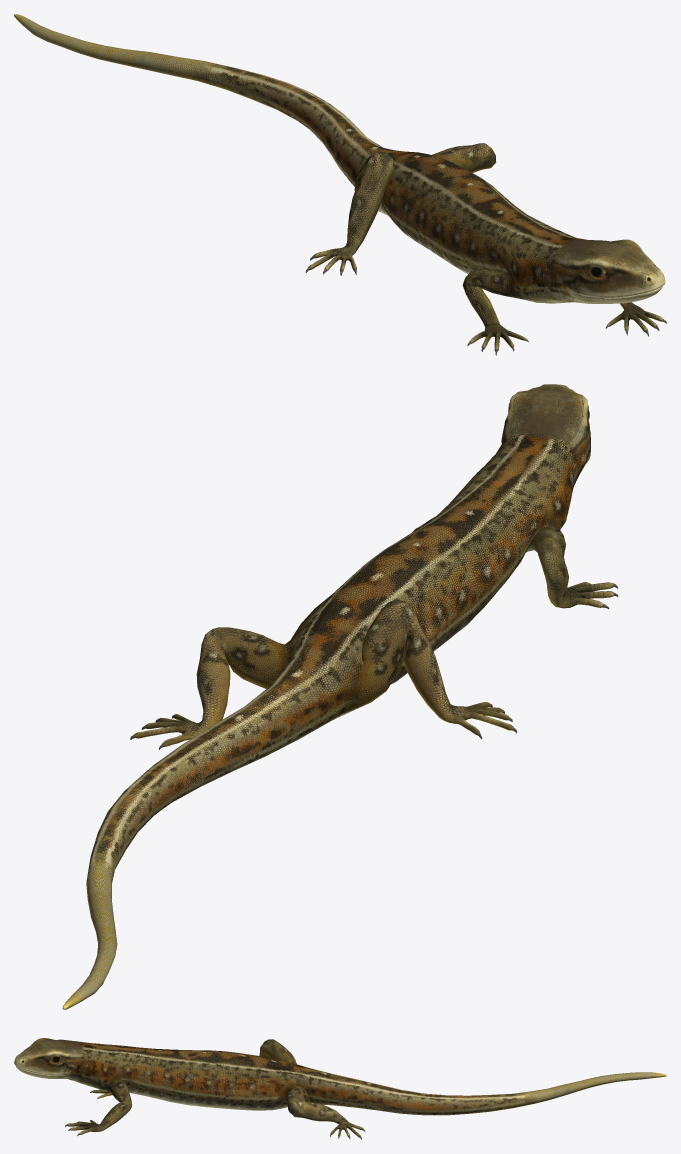
File: Standing174.obj
3 views of the same model, one above another, from view 1: azimuth 30°, elevation 25°; view 2: azimuth 150°, elevation 25°; view 3: azimuth 270°, elevation 25° (orthographic). The views are drawn at different scales.
Parts seen in each view (by area): view 1: Lizard; view 2: Lizard; view 3: Lizard.
Boxes of the visible parts, bbox=[...] form: Lizard: bbox=[14, 14, 666, 355]; Lizard: bbox=[62, 384, 618, 1009]; Lizard: bbox=[14, 1038, 666, 1139].
Size of the model in its own units: 25.34 by 12.09 by 101.
